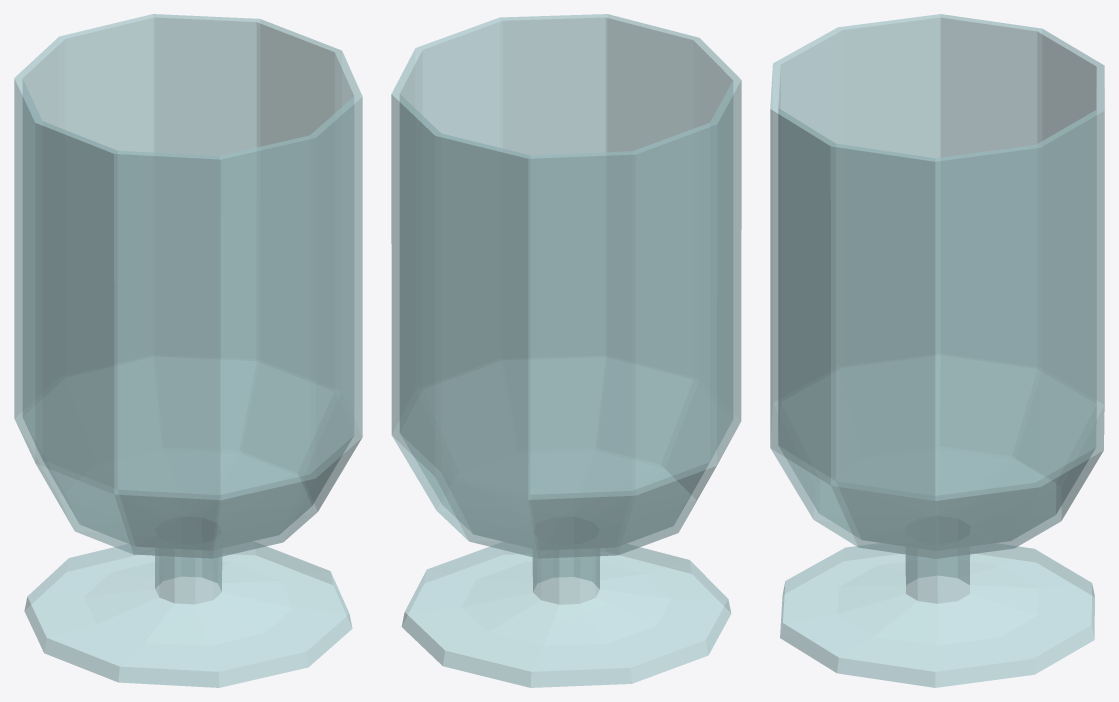
The model's file is vaso_alto.fbx.
The picture shows the model from 3 angles, left to right: view 1: azimuth 30°, elevation 25°; view 2: azimuth 150°, elevation 25°; view 3: azimuth 270°, elevation 25°; orthographic projection.
Parts seen in each view (by area): view 1: Cube; view 2: Cube; view 3: Cube.
Boxes of the visible parts, x1,y1,x2,y2 form: Cube: (14,14,362,687); Cube: (391,14,741,687); Cube: (770,14,1104,687).
Size of the model in its own units: 333 by 558 by 319.
